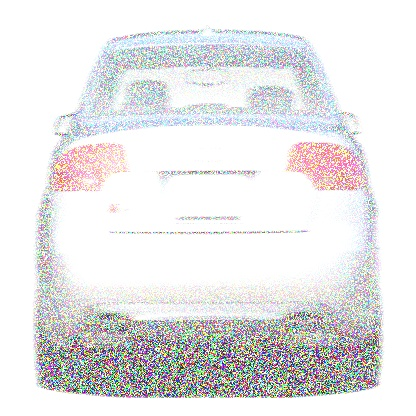Vehicle: (34, 16, 384, 392)
